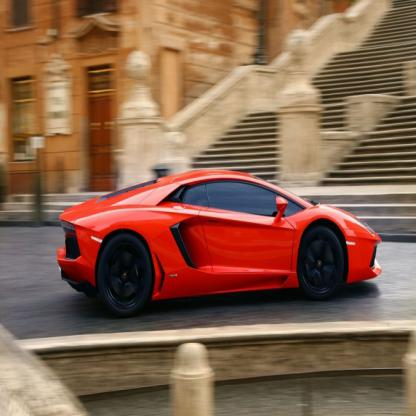Vehicle: (57, 169, 384, 312)
